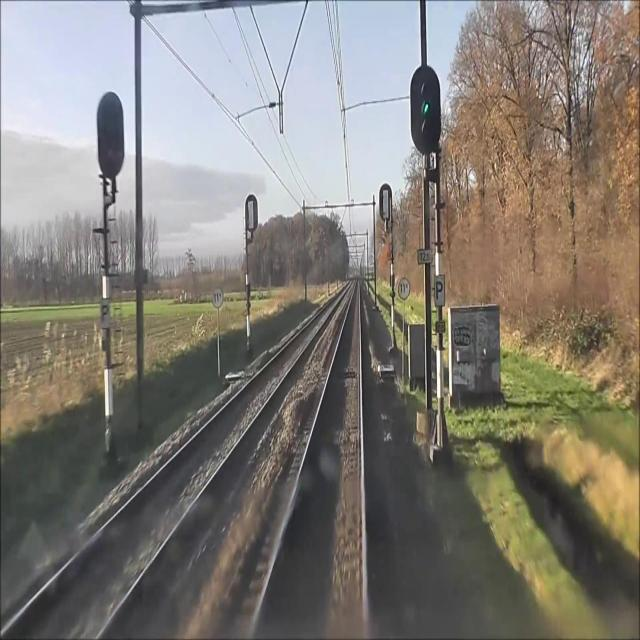rail-track: (2, 284, 348, 639), (251, 278, 363, 639)
